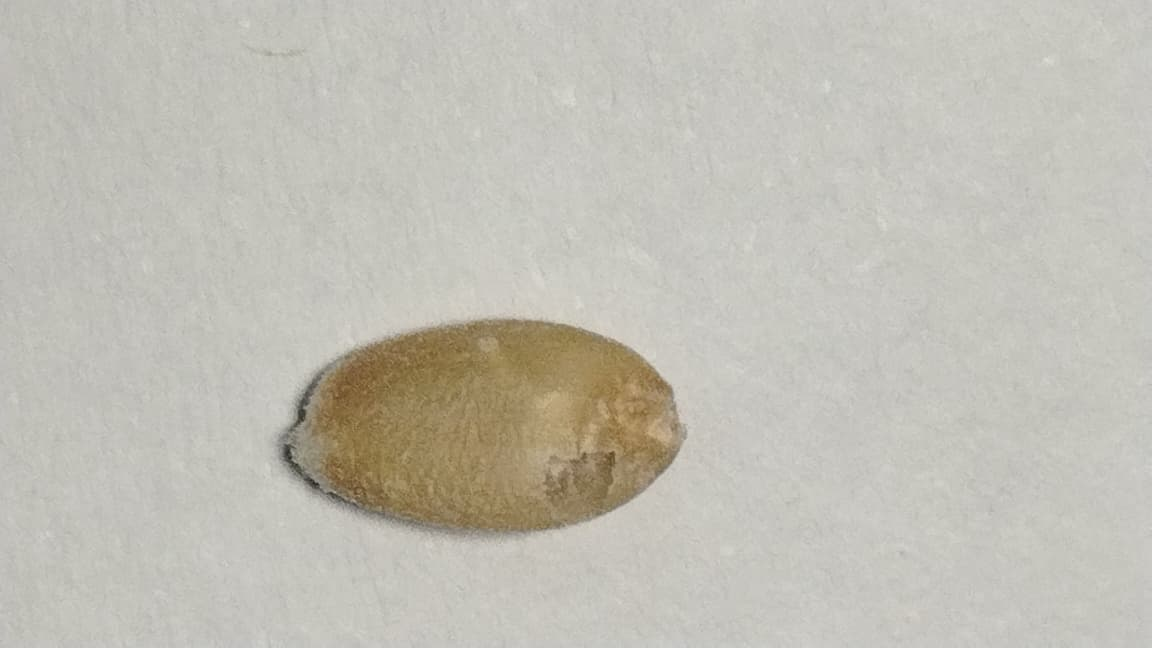damage: (307, 323, 684, 528)
insectdamage: (543, 421, 650, 528)
